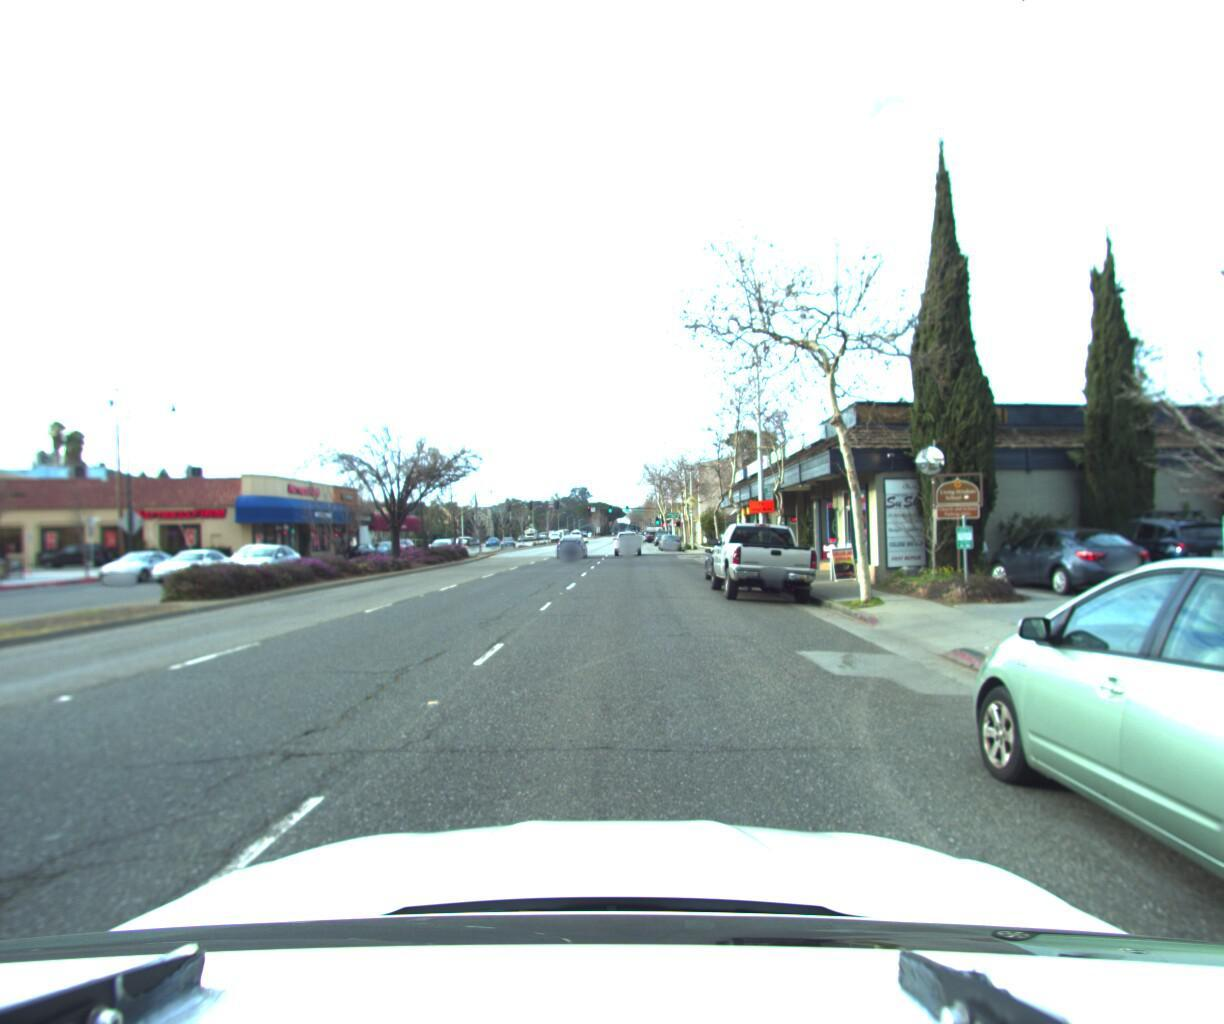car: (935, 537, 1224, 1024), (976, 515, 1158, 595), (1066, 503, 1224, 589), (706, 509, 818, 600), (90, 546, 192, 586), (150, 544, 241, 586), (226, 542, 311, 583), (702, 534, 768, 581), (37, 543, 126, 571), (554, 536, 587, 560), (613, 528, 640, 553), (656, 525, 681, 547)
